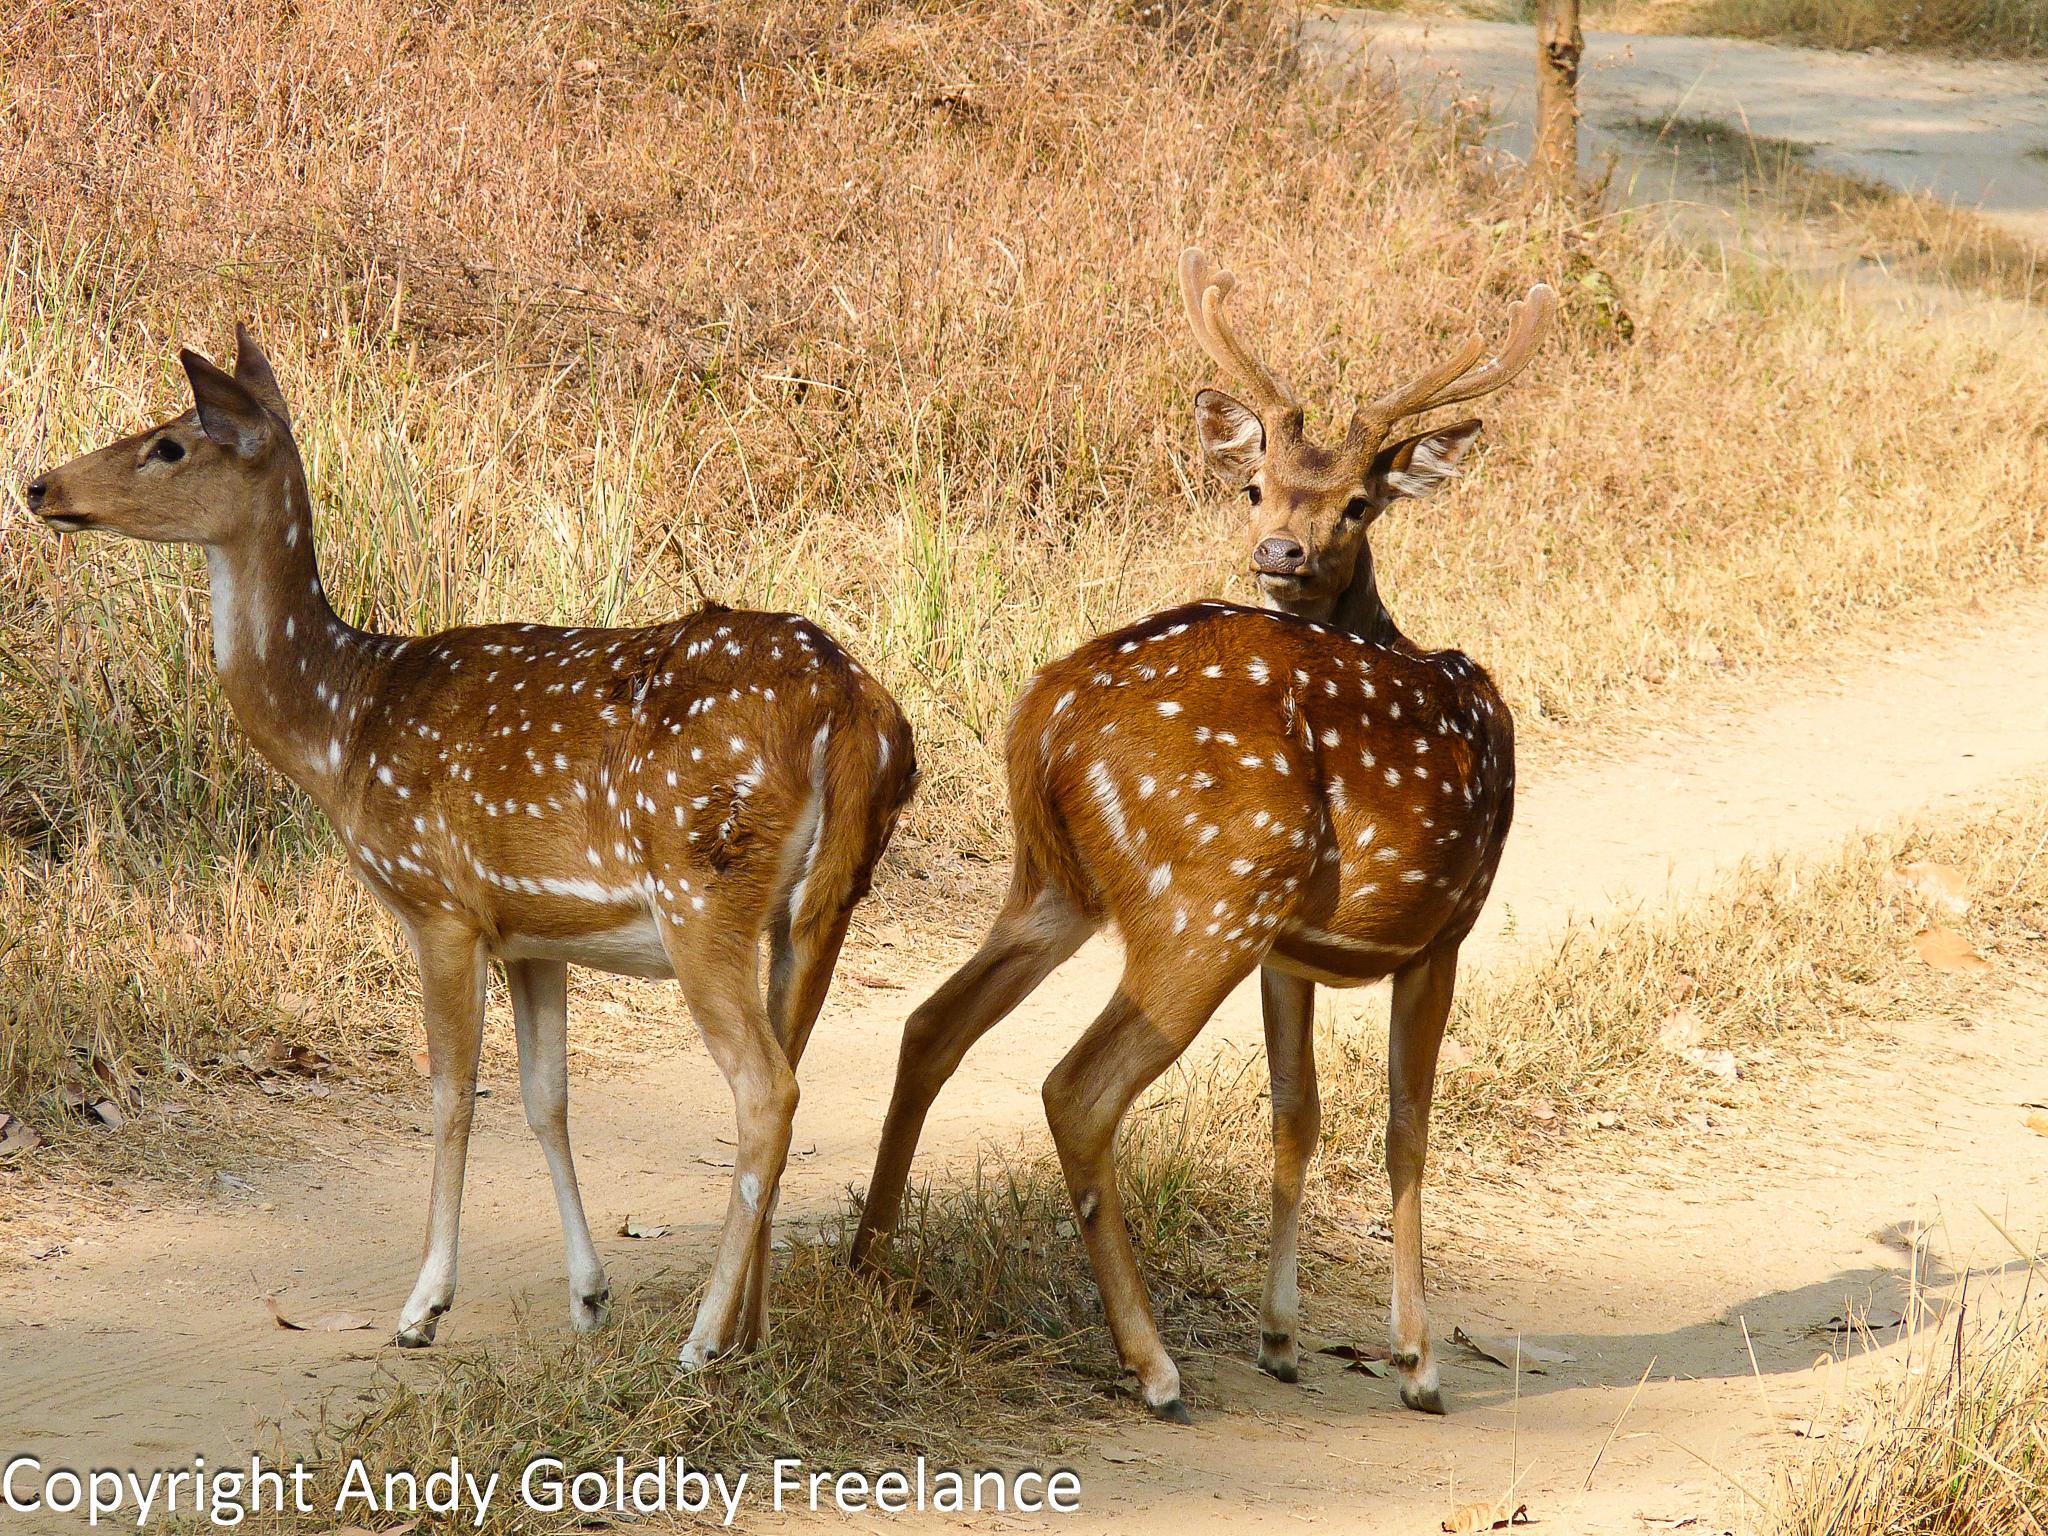Deer: (35, 337, 918, 1368), (851, 252, 1551, 1417)
